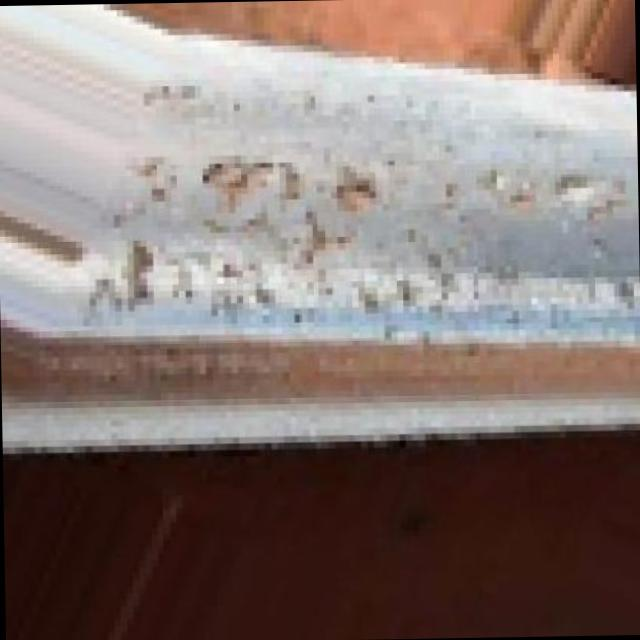defective: (9, 18, 639, 530)
